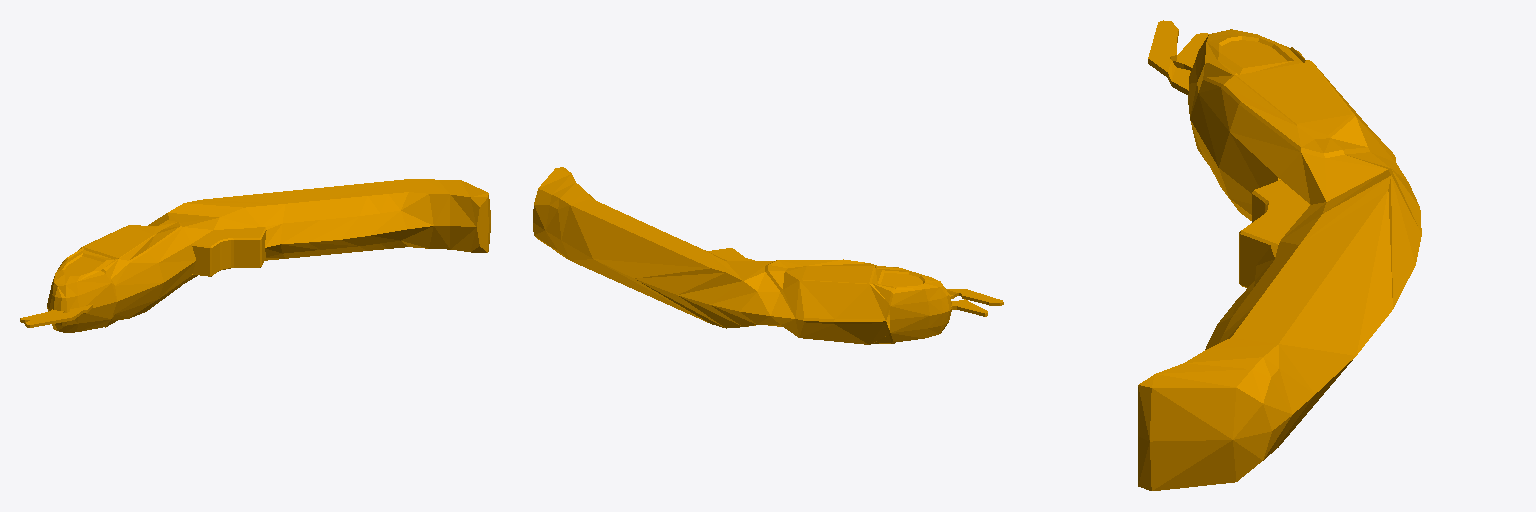
URDF robot description (electric-scissors.off):
<?xml version="1.0"?>
<robot name="electric-scissors.off">
	<link name="electric-scissors.off">
		<inertial>
			<!--origin xyz="0 0 0" rpy="0 0 0" /-->
			<mass value="0.5" />
			<!--inertia ixx="0.000360" ixy="0" ixz="0" iyy="0.0000615" iyz="0" izz="0.00036" /-->
		</inertial>
    		<visual>
	      		<!--origin rpy="0 0 0" xyz="0 0 0"/-->
      			<geometry>
        			<mesh filename="electric-scissors.off.obj"/>
      			</geometry>
         	</visual>
    		<collision>
      			<!--origin rpy="0 0 0" xyz="0 0 0"/-->
      			<geometry>
        			<mesh filename="electric-scissors.off.obj"/>
      			</geometry>
    		</collision>
	</link>
</robot>

--- What the picture shows (computed from the rendered views, not written in the file) ---
The picture shows the robot from 3 angles, left to right: view 1: azimuth 30°, elevation 25°; view 2: azimuth 150°, elevation 25°; view 3: azimuth 270°, elevation 25°; orthographic projection.
Robot: electric-scissors.off — 1 links, 0 joints (none); root link electric-scissors.off; default pose: every joint at zero.
Links seen in each view (by area): view 1: electric-scissors.off; view 2: electric-scissors.off; view 3: electric-scissors.off.
Boxes of the visible links, x1,y1,x2,y2 form: electric-scissors.off: [20, 179, 490, 332]; electric-scissors.off: [533, 167, 1003, 344]; electric-scissors.off: [1138, 20, 1421, 490].
Bounding box of the posed robot: 9.63 × 2.82 × 1.24 m (x, y, z).
Meshes: 1 distinct files referenced, 1 mesh visuals loaded (1 OBJ).
